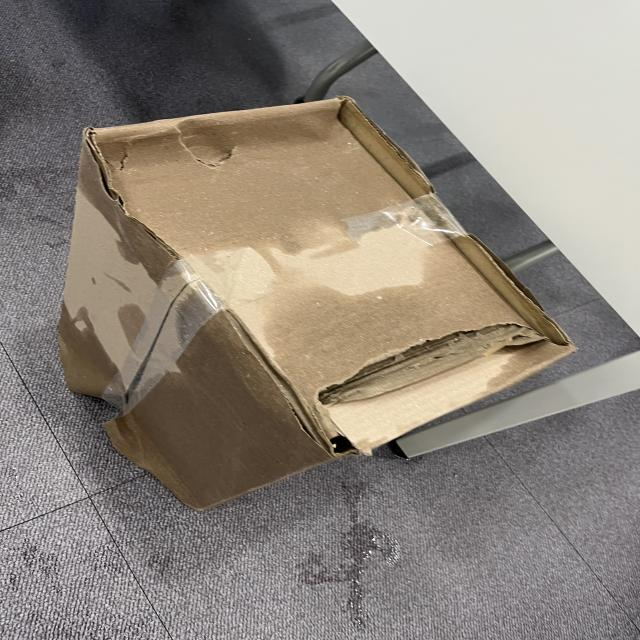wet: (94, 96, 424, 237), (266, 268, 536, 396), (112, 351, 324, 501)
